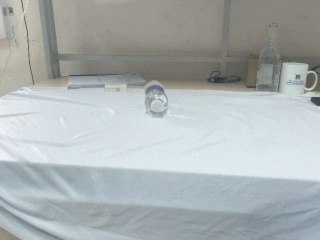bottle: (256, 23, 281, 93), (144, 80, 168, 116)
cup: (279, 62, 318, 96)
